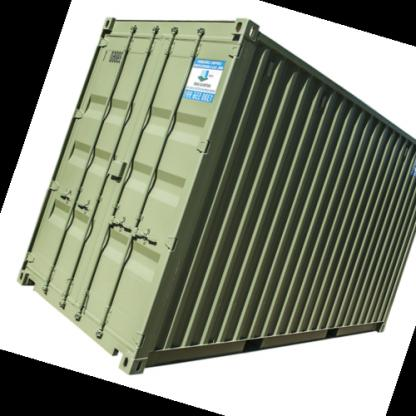Damage: (166, 257, 186, 294)
